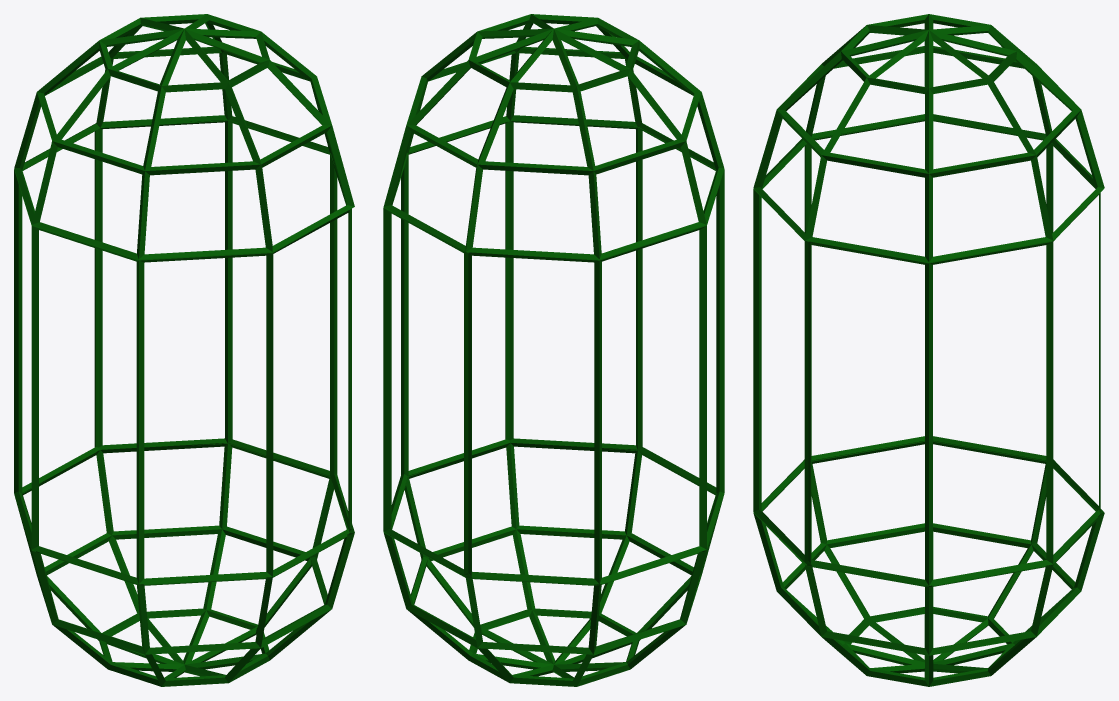
The model's file is acidpill.obj.
3 views of the same model, side by side, from view 1: azimuth 30°, elevation 25°; view 2: azimuth 150°, elevation 25°; view 3: azimuth 270°, elevation 25° (orthographic).
Visible parts, largest first — view 1: Sphere; view 2: Sphere; view 3: Sphere.
Part boxes in pixels (bbox=[...]): Sphere: bbox=[14, 14, 354, 686]; Sphere: bbox=[383, 14, 724, 686]; Sphere: bbox=[753, 14, 1104, 686].
Size of the model in its own units: 2.05 by 4.12 by 2.05.
